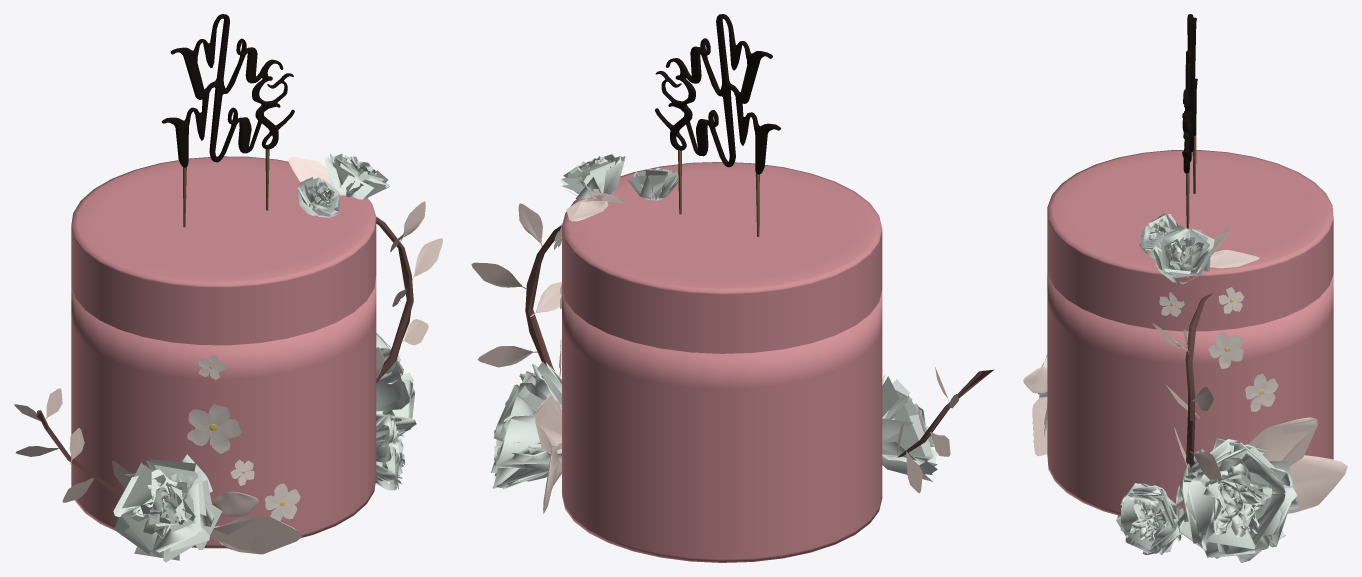
File: 1-tier-blush-roses-mrms.glb
3 views of the same model, side by side, from view 1: azimuth 30°, elevation 25°; view 2: azimuth 150°, elevation 25°; view 3: azimuth 270°, elevation 25° (orthographic). The views are drawn at different scales.
Visible parts, largest first — view 1: Cylinder.019, grid.039, mrms.001, Plane.083, Plane.074, Plane.075, grid.038, grid.041, grid.033, Sphere.050, grid.035, Sphere.054 (+2 smaller); view 2: Cylinder.019, mrms.001, grid.038, Plane.083, grid.039, grid.041, Plane.075, Plane.079, grid.035, Plane.086; view 3: Cylinder.019, grid.038, grid.033, grid.041, Plane.083, mrms.001, Plane.080, Plane.079, Sphere.057, Sphere.059, Plane.074, grid.035 (+3 smaller).
Part boxes in pixels (x1=…): Cylinder.019: x1=71, y1=156, x2=376, y2=548; grid.039: x1=113, y1=454, x2=221, y2=562; mrms.001: x1=161, y1=14, x2=294, y2=227; Plane.083: x1=376, y1=201, x2=442, y2=382; Plane.074: x1=210, y1=516, x2=301, y2=554; Plane.075: x1=14, y1=388, x2=130, y2=502; grid.038: x1=376, y1=333, x2=416, y2=437; grid.041: x1=324, y1=153, x2=389, y2=199; grid.033: x1=375, y1=414, x2=405, y2=490; Sphere.050: x1=187, y1=404, x2=241, y2=453; grid.035: x1=298, y1=177, x2=340, y2=217; Sphere.054: x1=265, y1=483, x2=300, y2=520; Cylinder.019: x1=562, y1=162, x2=882, y2=562; mrms.001: x1=655, y1=14, x2=781, y2=236; grid.038: x1=491, y1=361, x2=561, y2=489; Plane.083: x1=471, y1=203, x2=562, y2=370; grid.039: x1=882, y1=374, x2=937, y2=481; grid.041: x1=560, y1=154, x2=625, y2=199; Plane.075: x1=896, y1=367, x2=993, y2=493; Plane.079: x1=535, y1=395, x2=561, y2=453; grid.035: x1=627, y1=167, x2=678, y2=200; Plane.086: x1=566, y1=199, x2=608, y2=221; Cylinder.019: x1=1047, y1=150, x2=1333, y2=515; grid.038: x1=1176, y1=438, x2=1298, y2=562; grid.033: x1=1116, y1=482, x2=1183, y2=554; grid.041: x1=1149, y1=226, x2=1215, y2=284; Plane.083: x1=1152, y1=293, x2=1221, y2=479; mrms.001: x1=1182, y1=14, x2=1197, y2=228; Plane.080: x1=1287, y1=455, x2=1347, y2=513; Plane.079: x1=1248, y1=417, x2=1317, y2=466; Sphere.057: x1=1208, y1=332, x2=1243, y2=368; Sphere.059: x1=1245, y1=373, x2=1278, y2=411; Plane.074: x1=1032, y1=397, x2=1047, y2=456; grid.035: x1=1139, y1=213, x2=1180, y2=253.
Bounding box in the file's own units: 4.49 × 4.63 × 2.9.
